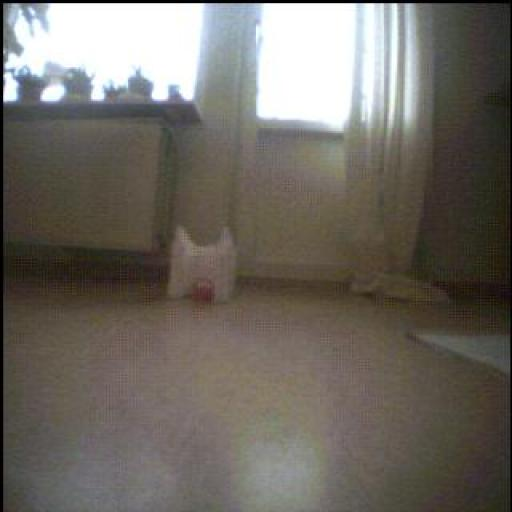Basket: (193, 281, 215, 303)
